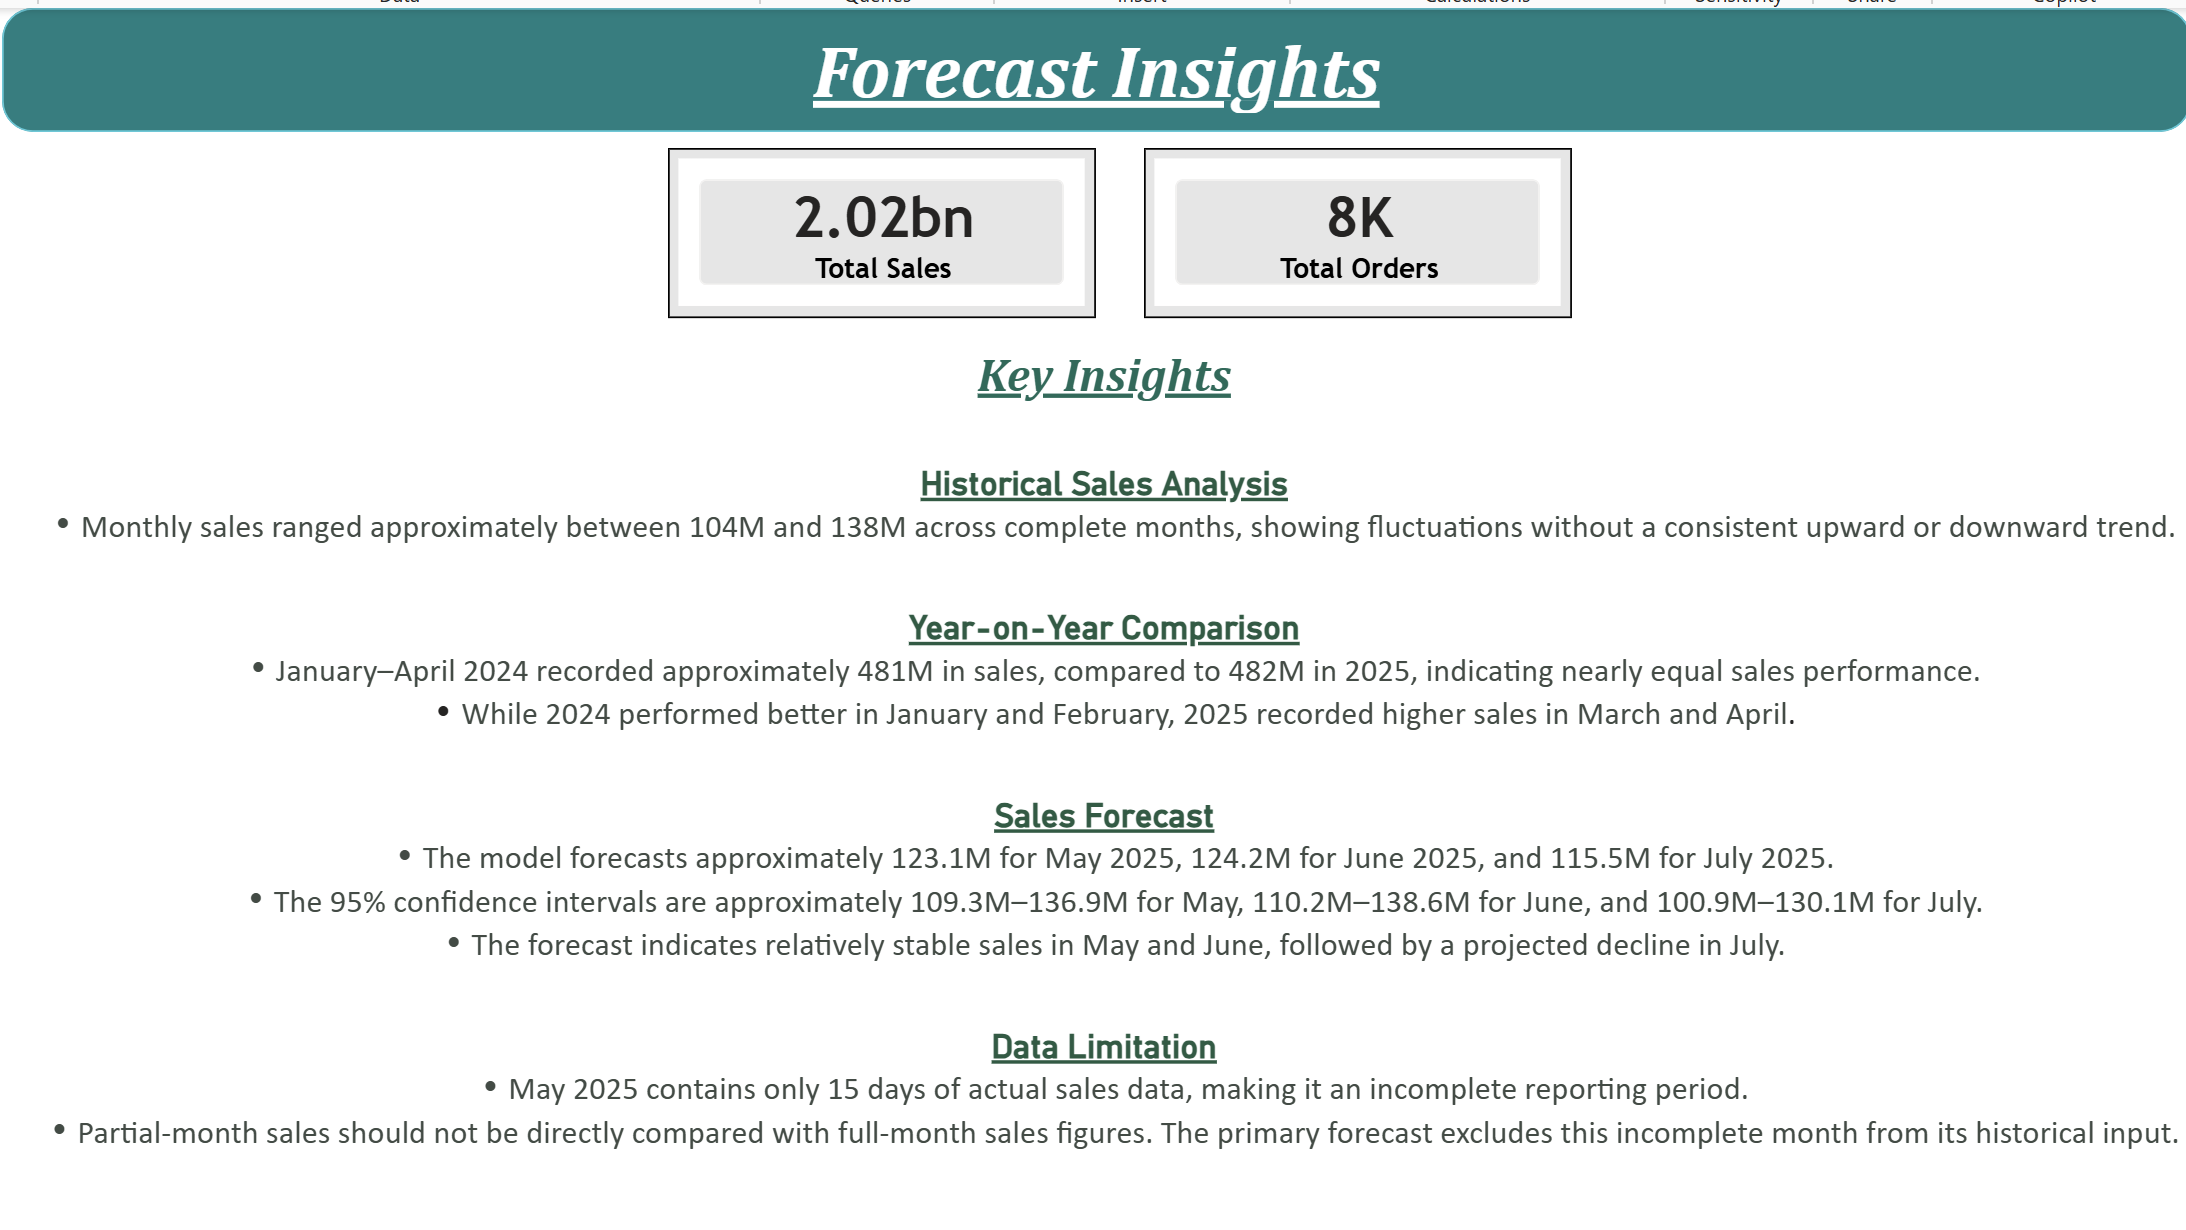

Layout of this report page (visuals, bound fields, positions):
{"tool":"powerbi","page":{"name":"L3 | T1 (insights)","canvas":[1280,720],"ordinal":6},"visuals":[{"type":"shape","box":[10.2,0,1260.9,71.4],"z":0},{"type":"cardVisual","fields":{"Data":["Sales_data.Total Sales"]},"box":[393.9,80.3,246.5,98],"z":1000},{"type":"cardVisual","fields":{"Data":["Measures Table 1.Total Orders"]},"box":[668,80.3,246.5,98],"z":2000},{"type":"textbox","box":[10.2,190,1269.8,531.6],"z":5000}]}

Visuals, with their boxes on the page's 1280x720 design canvas (x1, y1, x2, y2). These are canvas units, not pixel positions in the 2186x1230 screenshot, which may show the page scaled, cropped or inside an application window:
shape: (x1=10, y1=0, x2=1271, y2=71)
cardVisual - Sales_data.Total Sales: (x1=394, y1=80, x2=640, y2=178)
cardVisual - Measures Table 1.Total Orders: (x1=668, y1=80, x2=914, y2=178)
textbox: (x1=10, y1=190, x2=1280, y2=722)
